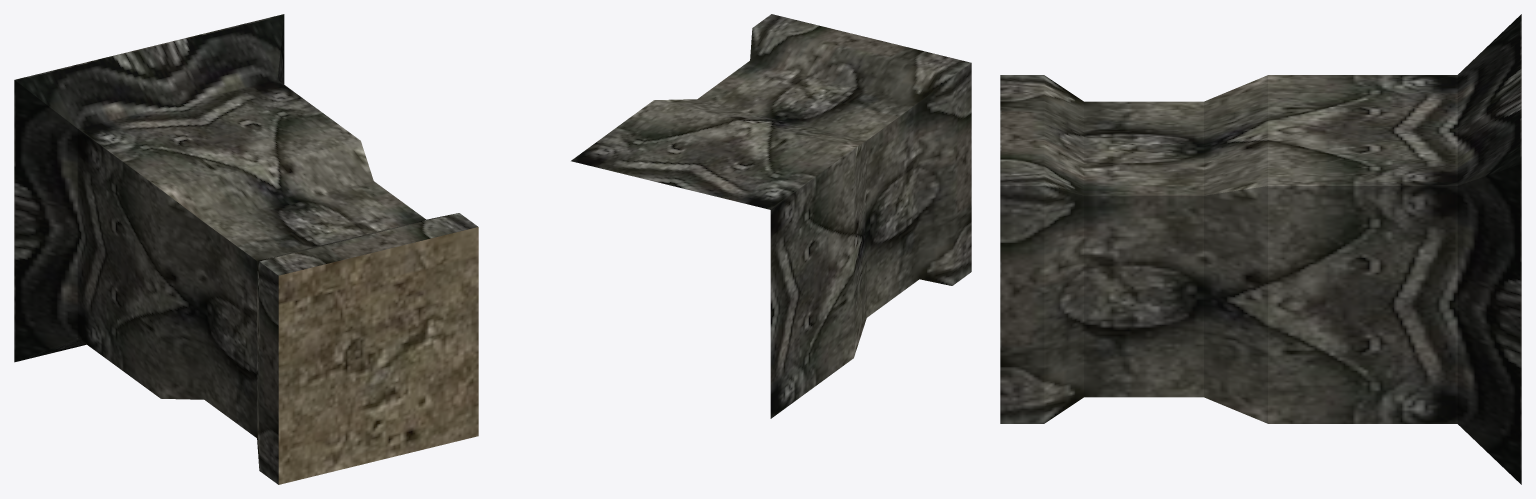
3 renders of one model, left to right at view 1: azimuth 30°, elevation 25°; view 2: azimuth 150°, elevation 25°; view 3: azimuth 270°, elevation 25°, orthographic. The views are drawn at different scales.
Parts seen in each view (by area): view 1: model_Object31; view 2: model_Object31; view 3: model_Object31.
Part boxes in pixels (left/top/right/bottom): model_Object31: left=14, top=14, right=478, bottom=484; model_Object31: left=571, top=14, right=971, bottom=418; model_Object31: left=1000, top=14, right=1521, bottom=484.
Bounding box in the file's own units: 0.8084 × 0.8084 × 1.19.
Materials: 2 (2 with a texture image).
